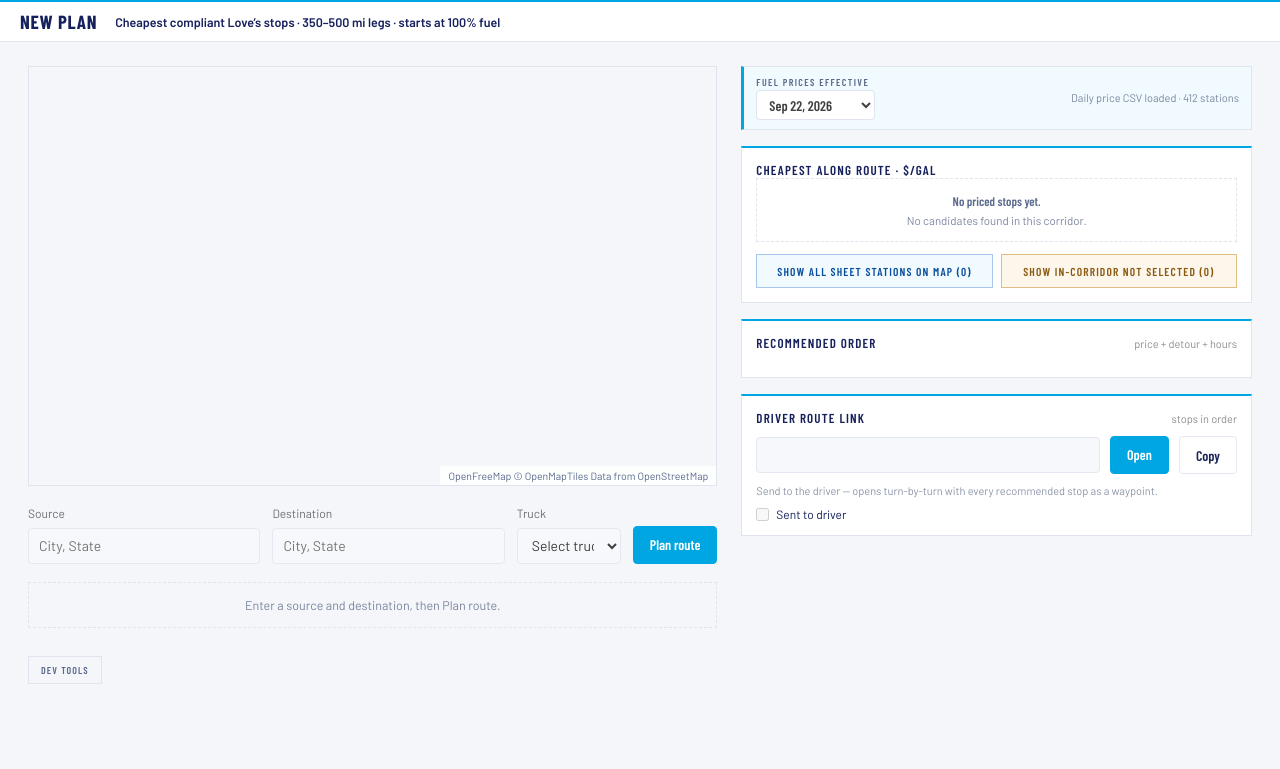
New Plan page — solve-in-flight spinner (T-23 step 23.3, §8) › clears on failure too, and the error shows
The image size is (1280, 769).
Select "031" in the dropdown named "Truck" at coordinates (569, 546), box left=517, top=528, right=621, bottom=564
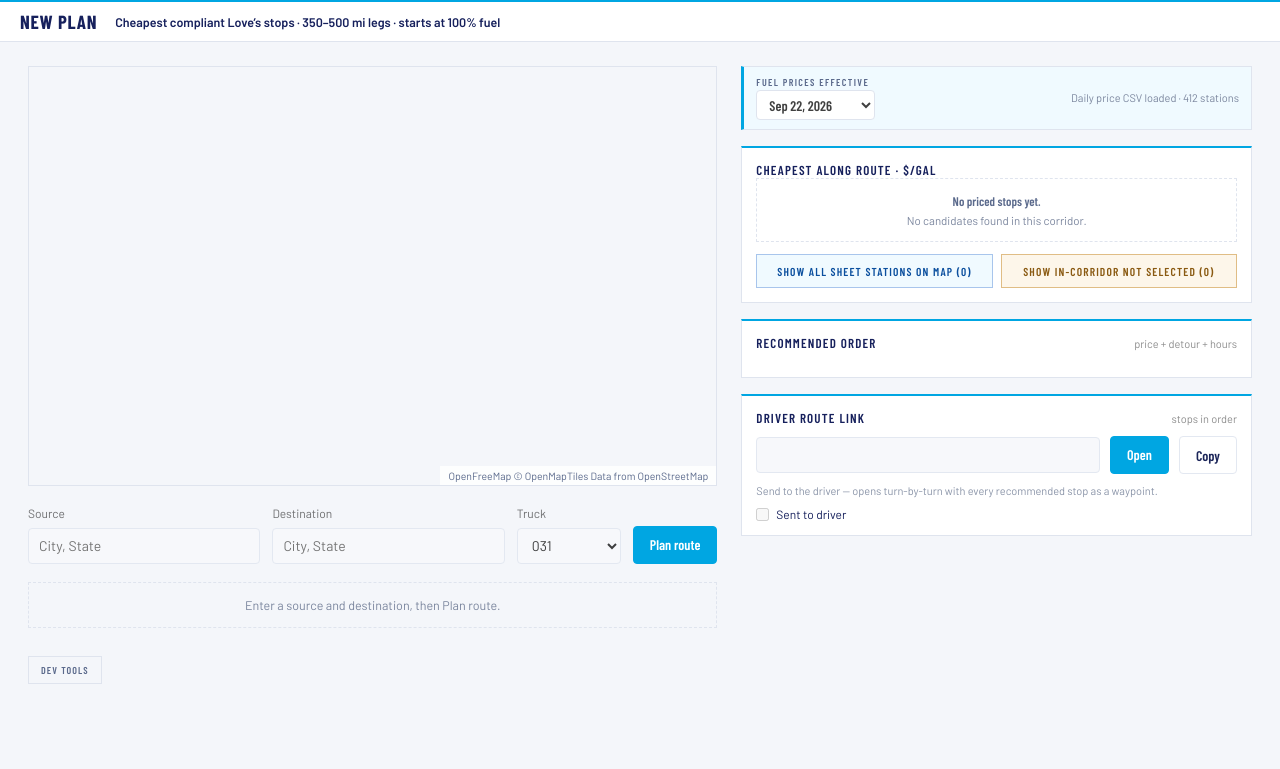
Click the button "Dev Tools" at coordinates (65, 670), box left=28, top=656, right=102, bottom=684
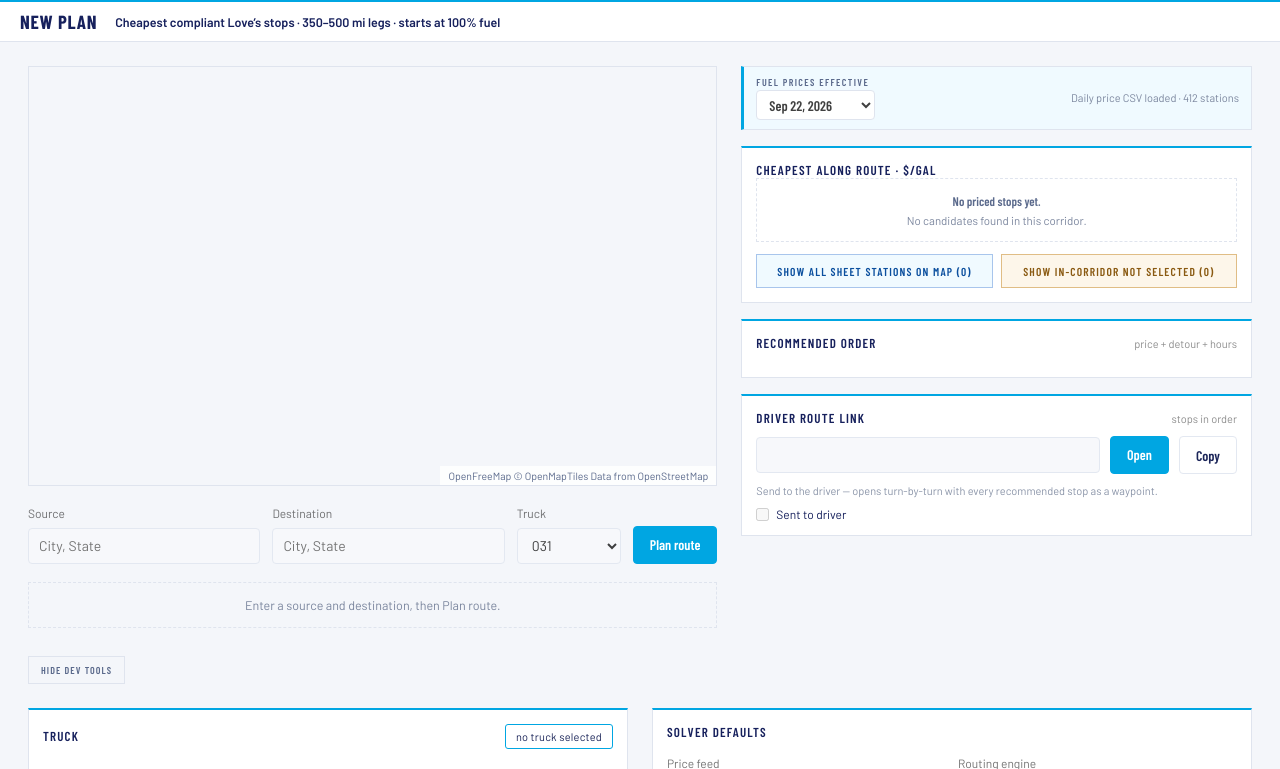
Type "Bakersfield, CA" into the field named "Source" at coordinates (144, 546), box left=28, top=528, right=260, bottom=564
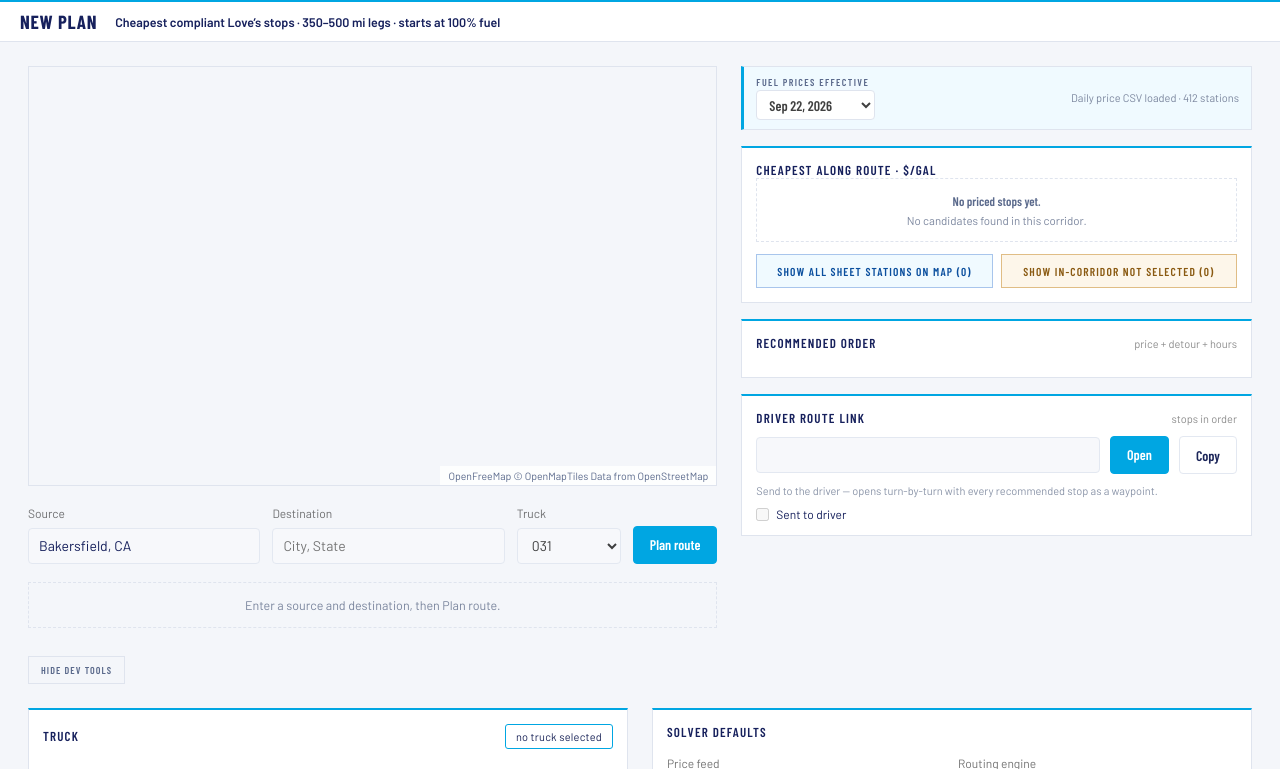
Type "Reno, NV" into the field named "Destination" at coordinates (389, 546), box left=272, top=528, right=505, bottom=564
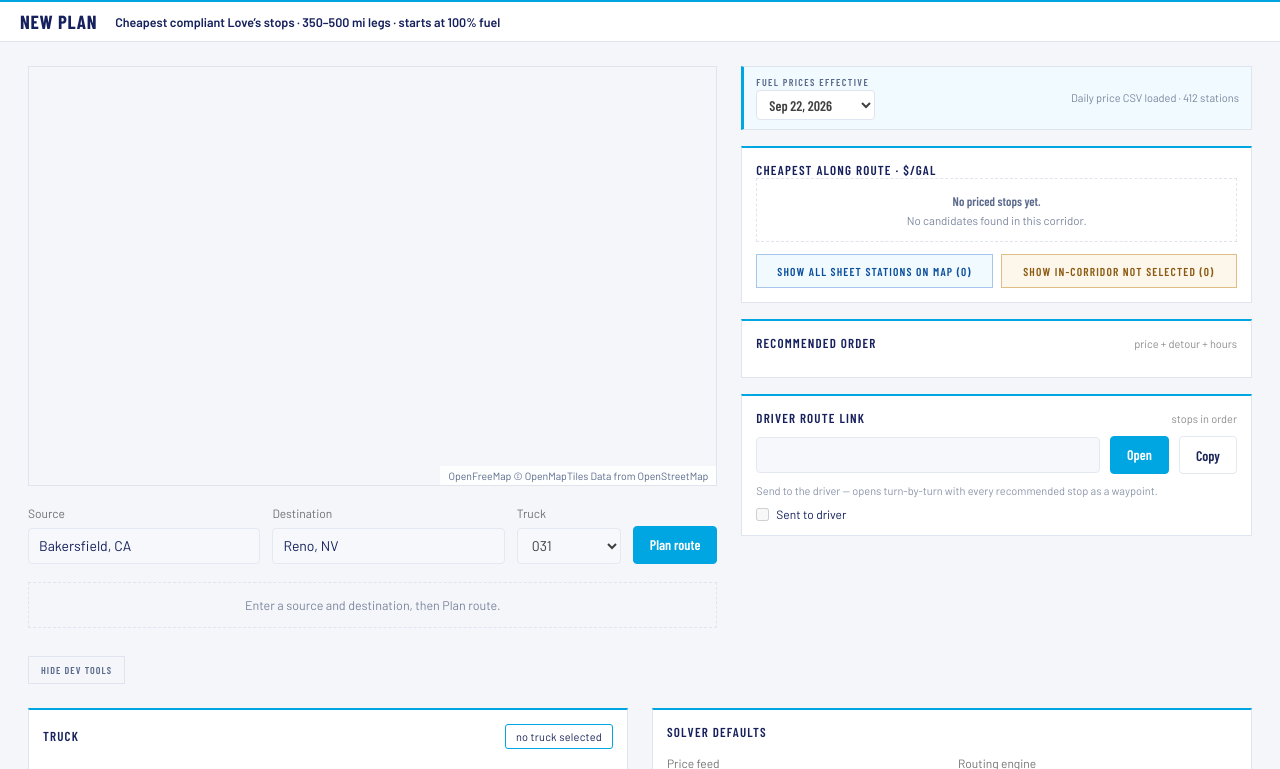
Click the button "Plan route" at coordinates (675, 545), box left=633, top=526, right=717, bottom=564
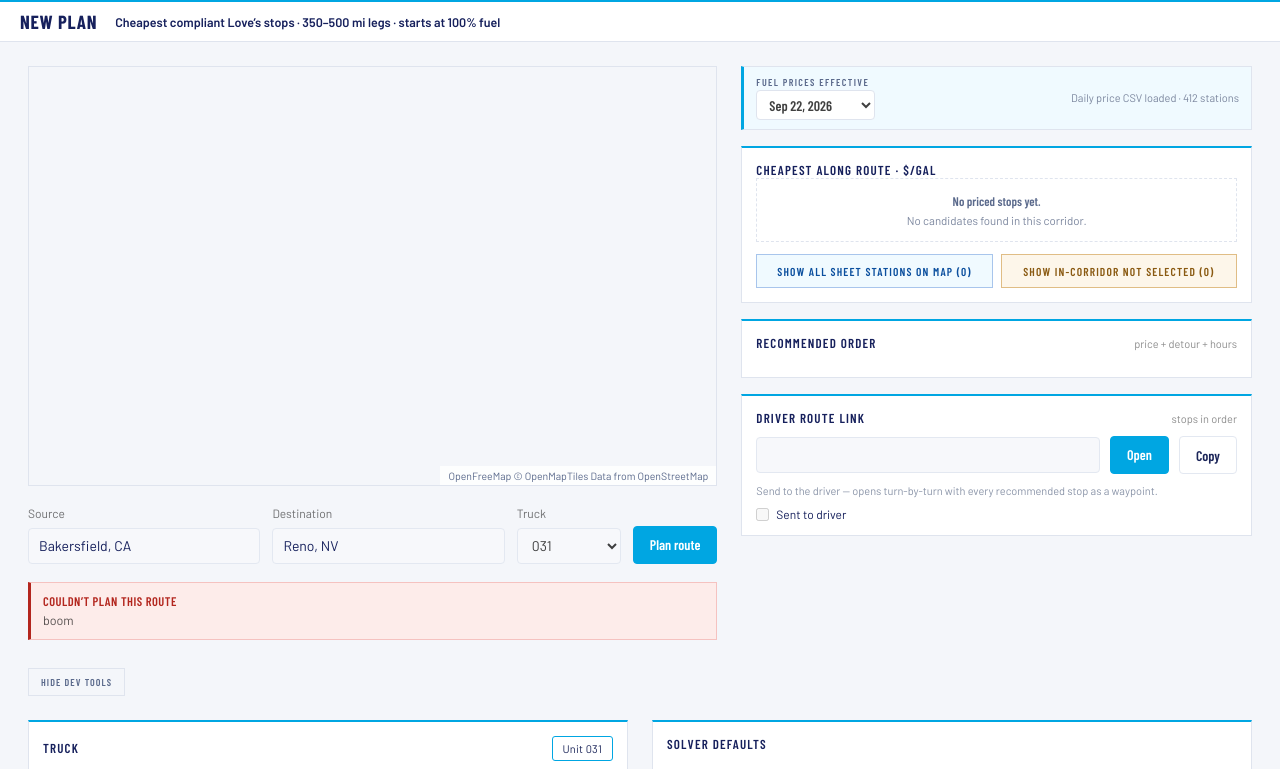
Expected: the message "Couldn’t plan this route boom" is shown, left=28, top=582, right=717, bottom=640
